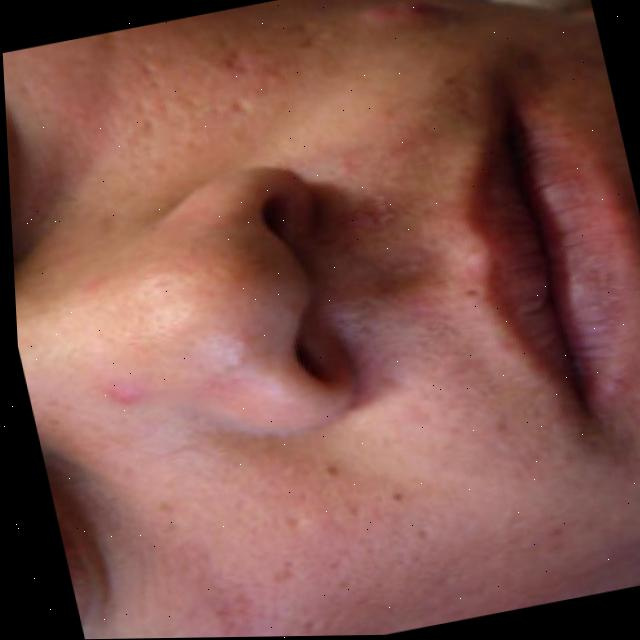Acne: (335, 93, 484, 348), (73, 0, 375, 117), (96, 367, 156, 424), (205, 567, 252, 637), (616, 325, 640, 445)
